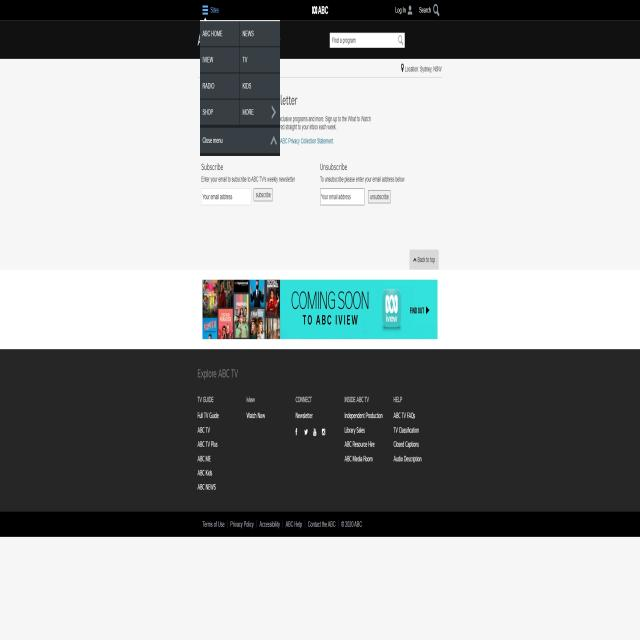menu-panel: (192, 358, 425, 512), (200, 20, 280, 156)
search: (330, 30, 406, 48)
